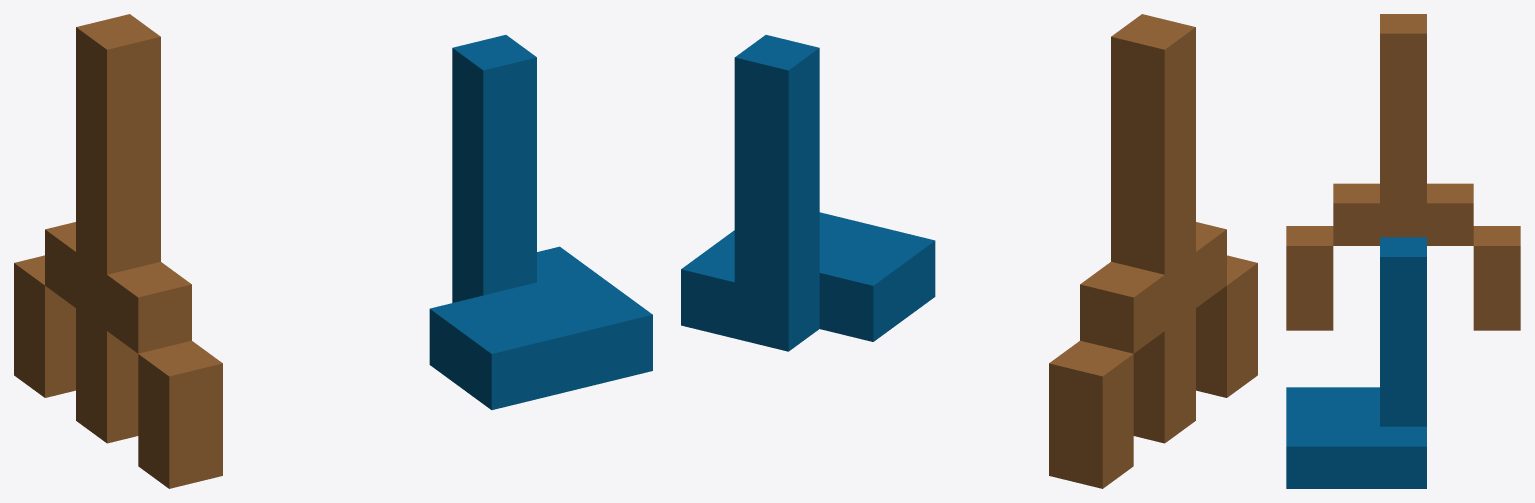
File: ama03-12.obj
The picture shows the model from 3 angles, left to right: view 1: azimuth 30°, elevation 25°; view 2: azimuth 150°, elevation 25°; view 3: azimuth 270°, elevation 25°; orthographic projection. The views are drawn at different scales.
Visible parts, largest first — view 1: ama03-12; view 2: ama03-12; view 3: ama03-12.
Part boxes in pixels (box(x1,y1,x2,y2)): ama03-12: box(14, 14, 652, 488); ama03-12: box(681, 14, 1257, 488); ama03-12: box(1286, 14, 1520, 488).
Size of the model in its own units: 9 by 7 by 5.
Materials: 1 (1 with a texture image).
